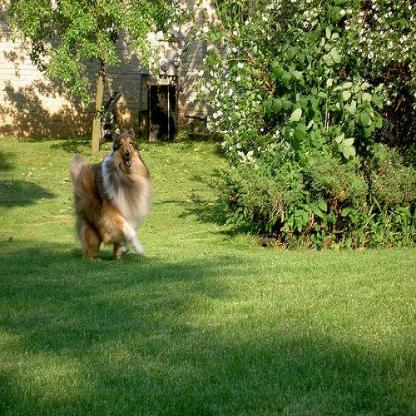collie: (70, 117, 151, 276)
